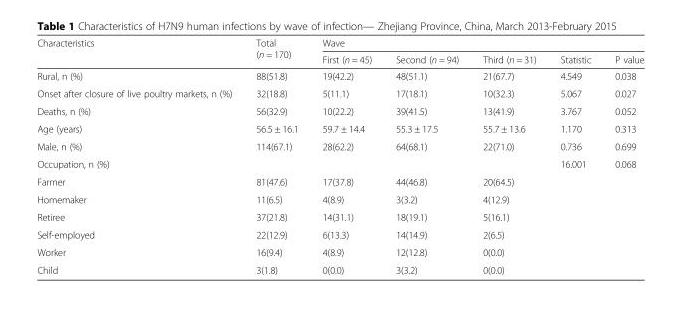table: (36, 36, 643, 275)
table column: (36, 36, 243, 275), (383, 36, 470, 275), (470, 36, 547, 275), (309, 36, 383, 275), (243, 36, 309, 275), (547, 36, 602, 275), (602, 36, 643, 275)
table column header: (36, 36, 643, 67)
table row: (36, 84, 643, 102), (36, 119, 643, 137), (36, 154, 643, 172), (36, 172, 643, 190), (36, 207, 643, 225), (36, 225, 643, 243), (36, 50, 643, 67), (36, 67, 643, 84), (36, 102, 643, 119), (36, 137, 643, 154), (36, 190, 643, 207), (36, 243, 643, 260), (36, 260, 643, 275), (36, 36, 643, 50)
table spanning cell: (36, 36, 243, 67), (309, 36, 643, 50), (243, 36, 309, 67)
